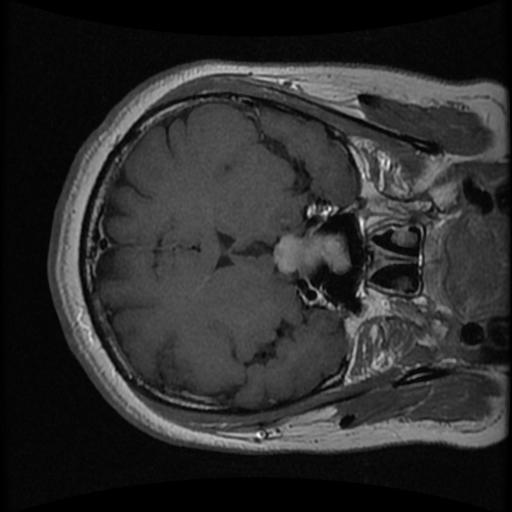pituitary tumour: (273, 232, 349, 276)
